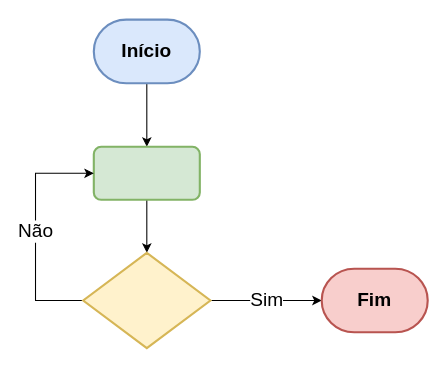
This 447x367 diagram has some shape labels left out. Each missing label, with the centre of its shape:
"Aprendeu fluxograma?" goes at pixel 146 300.
"Estudar fluxograma" goes at pixel 146 172.
